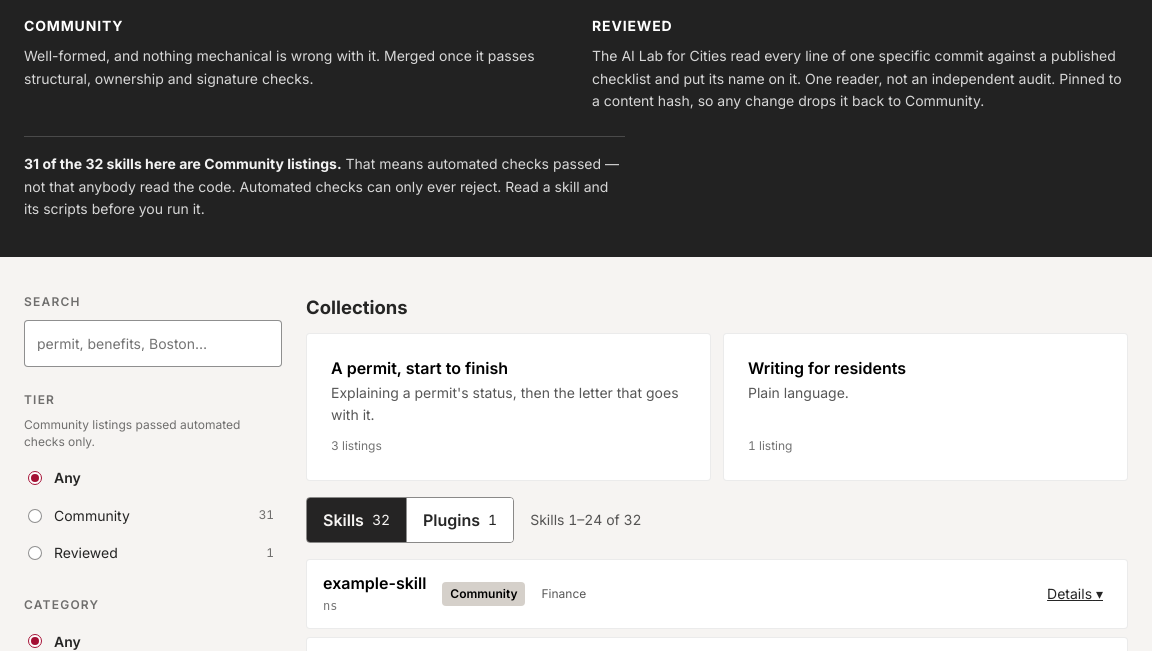
Test: the tiles on the browse page › go when the reader starts typing, and come back when the search is cleared
(page scrolled)
In the search field labelled "Search": x=153, y=343 left=24, top=319, right=282, bottom=367, type "x"
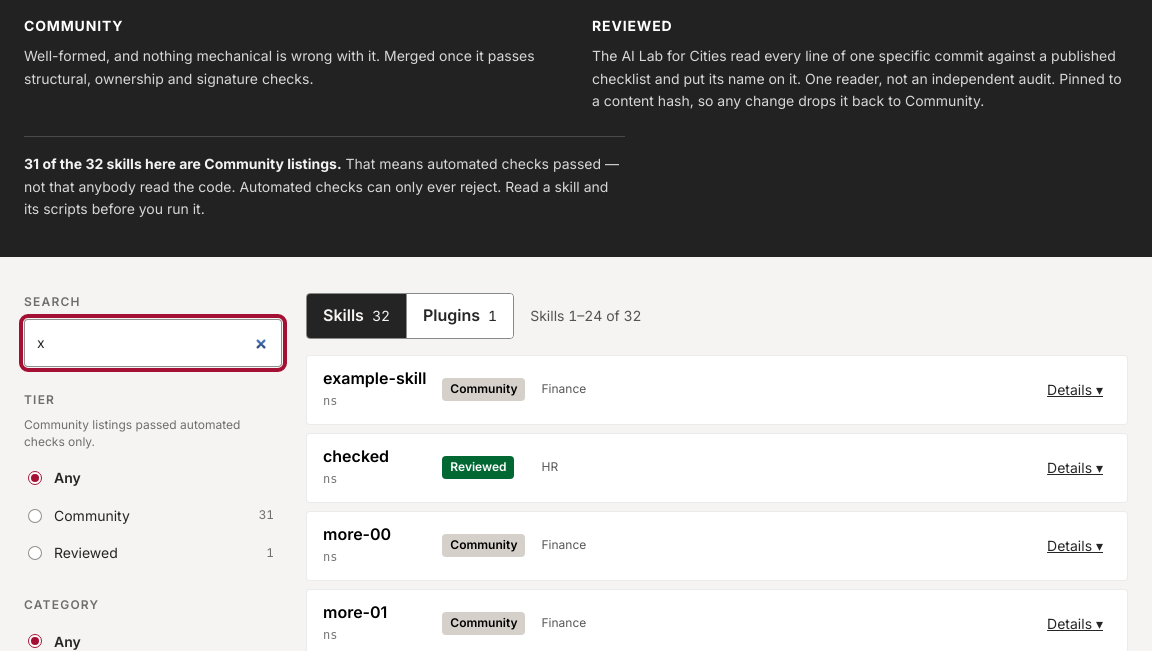
Expected: the heading "Collections" is gone
Clear the search field labelled "Search": x=153, y=343 left=24, top=319, right=282, bottom=367
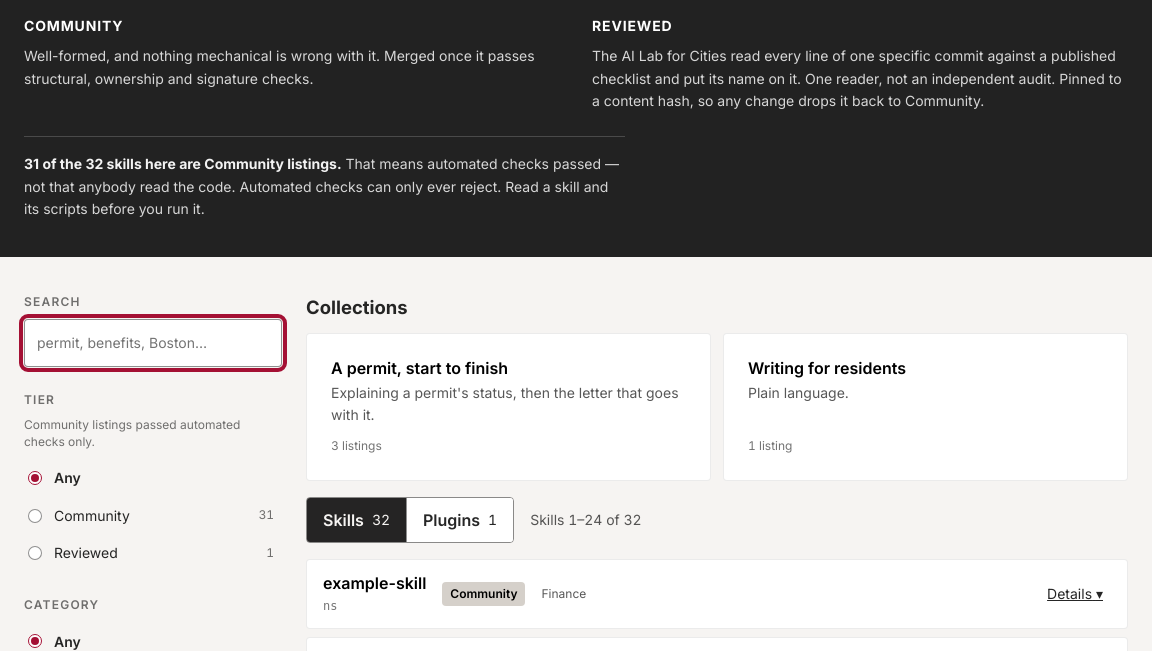
Expected: the element "Collections" is shown, left=306, top=292, right=1128, bottom=481
